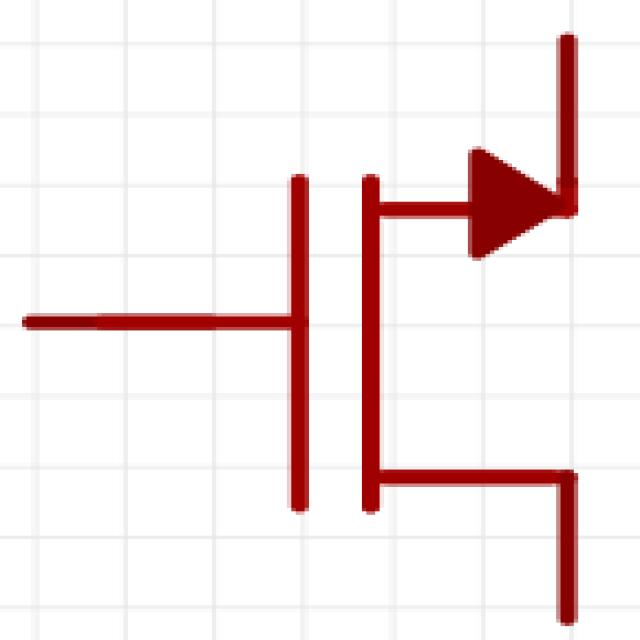nmos: (39, 31, 640, 619)
